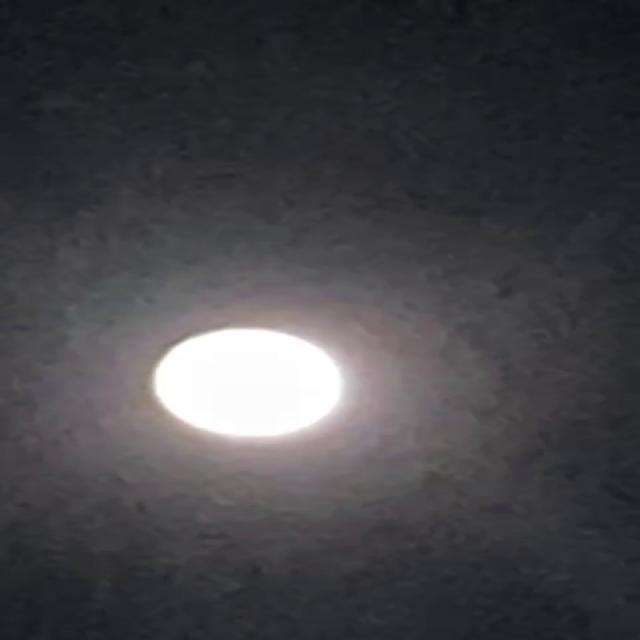moon: (122, 310, 360, 454)
